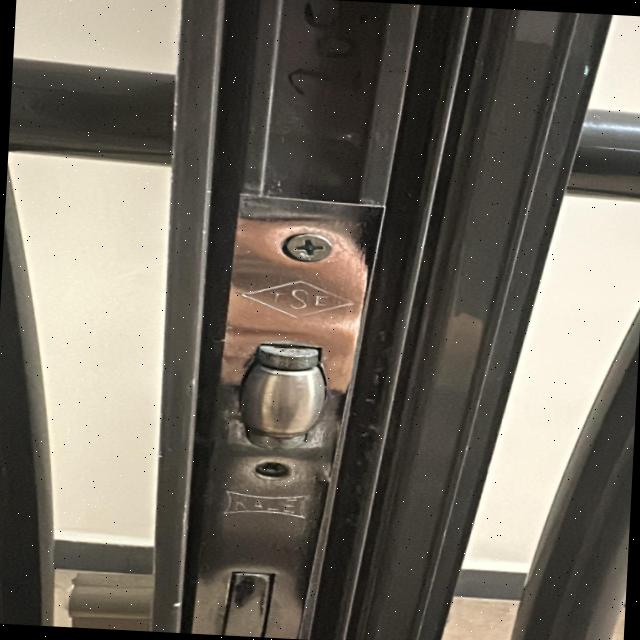Phillips: (283, 232, 331, 262)
